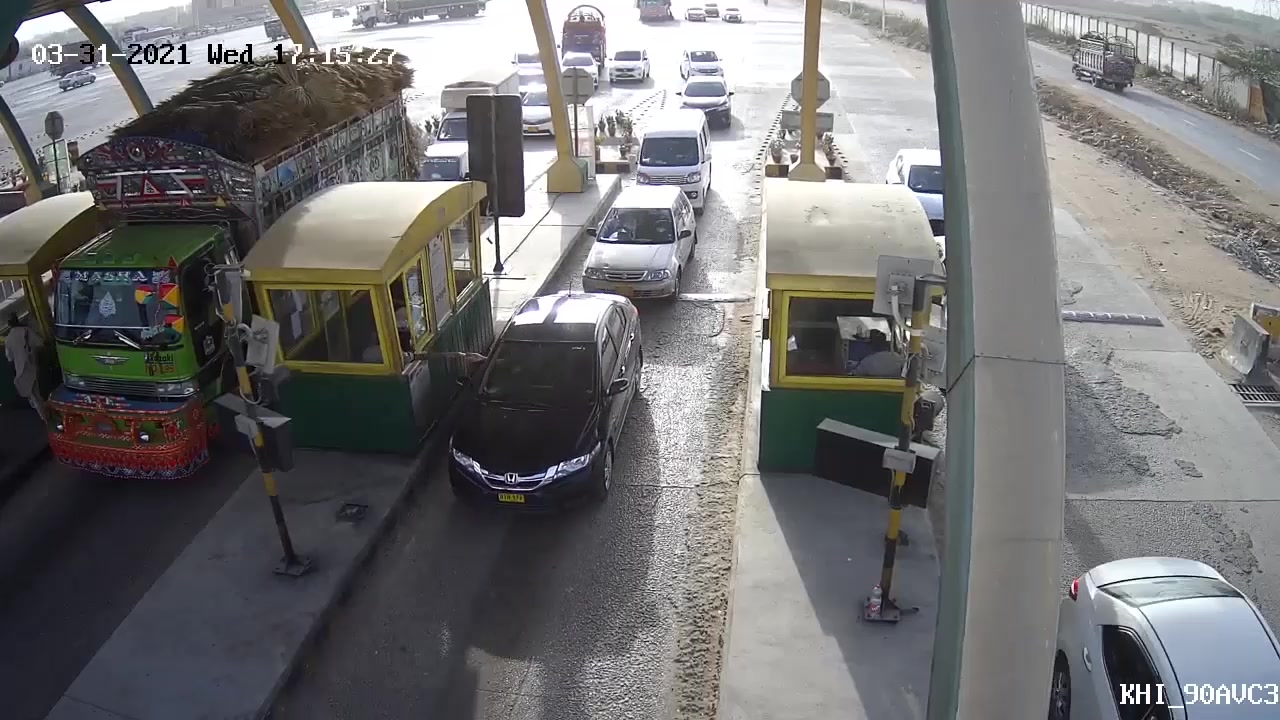F1: (433, 284, 650, 526), (568, 183, 706, 311)
